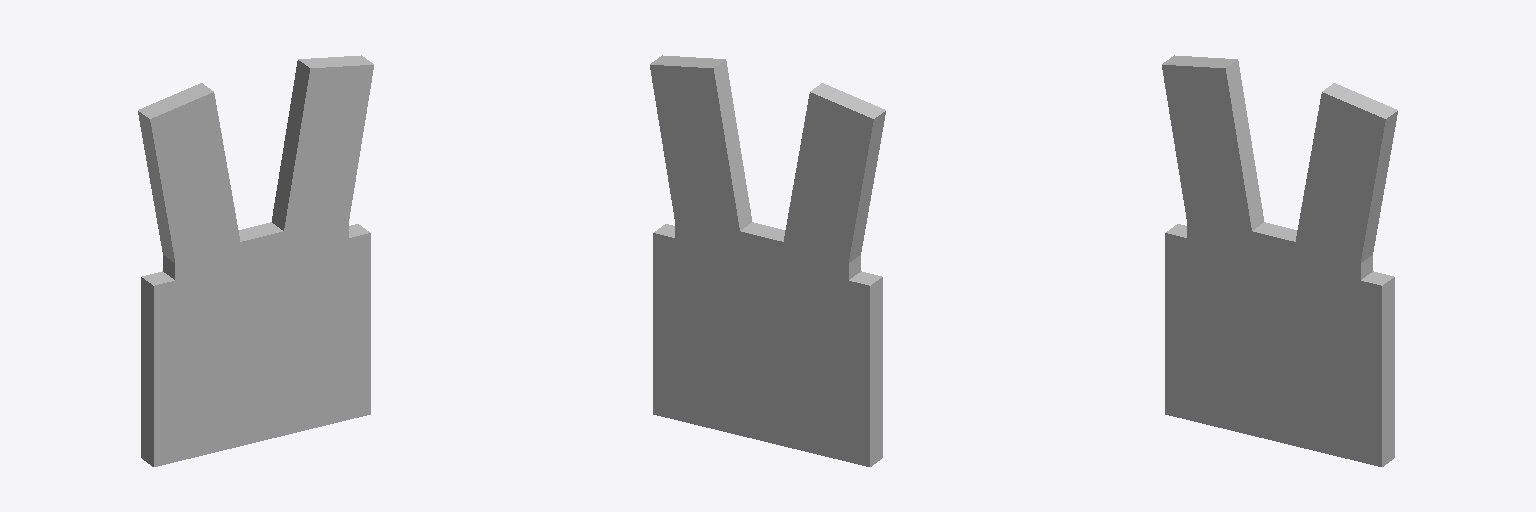
Rendered from bunny_hat.obj.
The picture shows the model from 3 angles: view 1: azimuth 30°, elevation 25°; view 2: azimuth 150°, elevation 25°; view 3: azimuth 330°, elevation 25°; orthographic projection.
Parts seen in each view (by area): view 1: Shape1, Shape3, Shape4, Shape2; view 2: Shape1, Shape3, Shape4, Shape2; view 3: Shape1, Shape4, Shape3, Shape2.
Part boxes in pixels (x1,y1,x2,y2): Shape1: (141,224,370,466); Shape3: (272,55,373,230); Shape4: (138,83,239,267); Shape2: (163,216,348,280); Shape1: (653,224,882,466); Shape3: (650,55,751,230); Shape4: (784,83,885,267); Shape2: (675,216,860,280); Shape1: (1165,224,1394,466); Shape4: (1162,55,1263,230); Shape3: (1296,83,1397,268); Shape2: (1187,216,1372,280).
Bounding box in the file's own units: 0.6462 × 0.9934 × 0.0625.